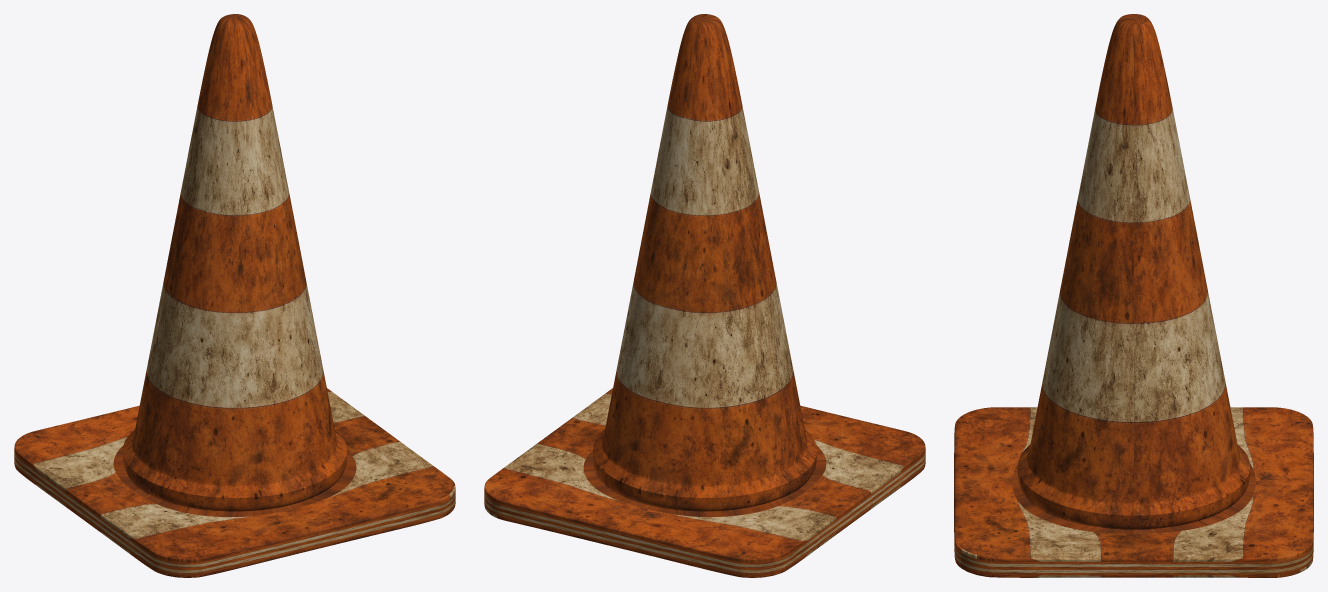
The model's file is القمع.fbx.
The picture shows the model from 3 angles, left to right: view 1: azimuth 30°, elevation 25°; view 2: azimuth 150°, elevation 25°; view 3: azimuth 270°, elevation 25°; orthographic projection. The views are drawn at different scales.
Visible parts, largest first — view 1: pCube1; view 2: pCube1; view 3: pCube1.
Part boxes in pixels (box(x1,y1,x2,y2)): pCube1: box(14, 14, 455, 577); pCube1: box(484, 14, 925, 577); pCube1: box(954, 14, 1313, 577).
Bounding box in the file's own units: 4 × 5.95 × 4.
